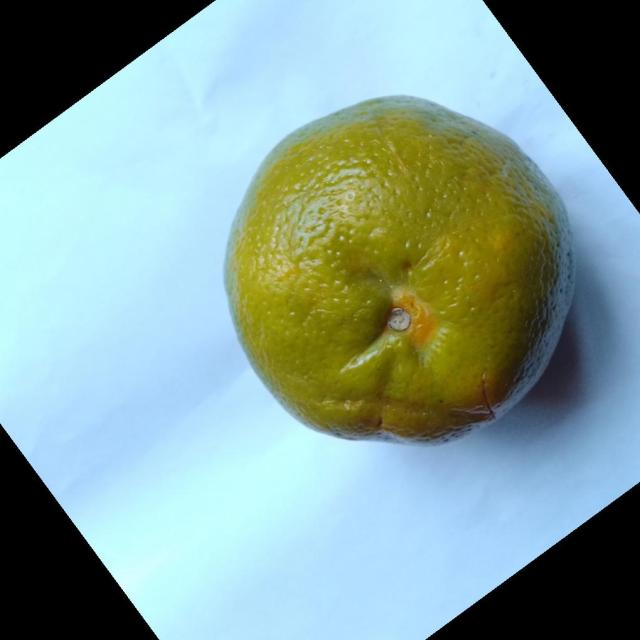fresh orange: (222, 93, 576, 447)
